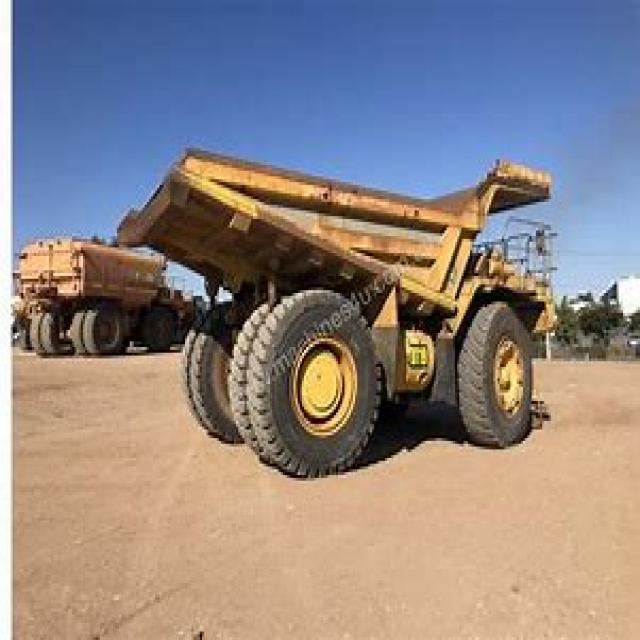dump_truck: (115, 137, 559, 480)
